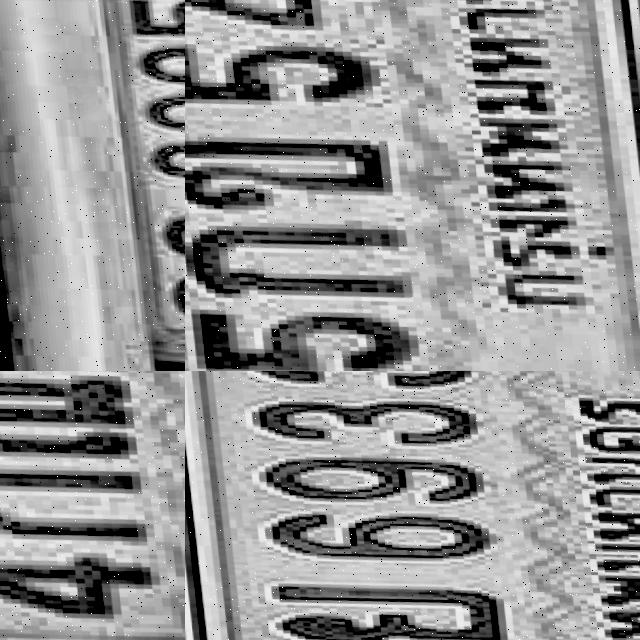license-plate: (185, 0, 640, 371), (185, 371, 640, 640), (0, 371, 185, 640), (85, 0, 185, 371)
